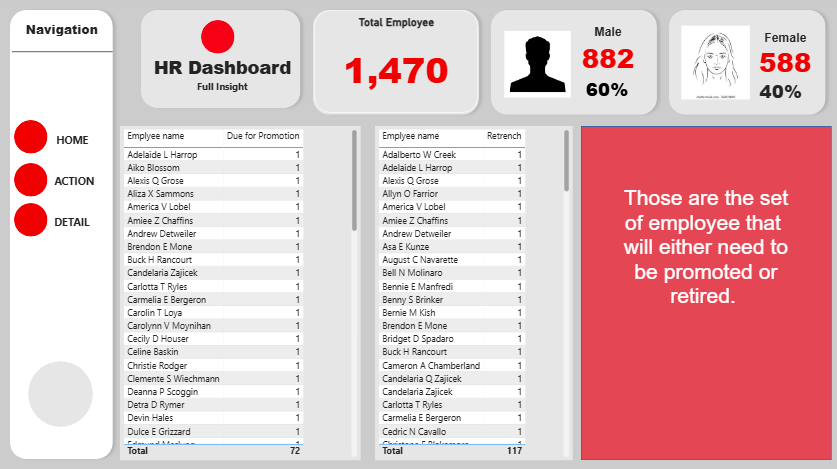

This screenshot's page, from the dashboard's own definition file:
{"tool":"powerbi","page":{"name":"ACTION","canvas":[1280,720],"ordinal":1},"visuals":[{"type":"shape","box":[11.4,11.4,174.3,698.6],"z":0},{"type":"shape","box":[48.6,554.3,98.6,100],"z":1000},{"type":"shape","box":[27.1,188.7,51.4,51.4],"z":2000},{"type":"shape","box":[27.1,253,51.4,51.4],"z":3000},{"type":"shape","box":[27.1,314.4,51.4,51.4],"z":4000},{"type":"textbox","box":[85.7,201.4,77.1,41.4],"z":5000},{"type":"textbox","box":[82.9,264.3,82.9,37.1],"z":6000},{"type":"textbox","box":[82.9,325.7,82.9,40],"z":7000},{"type":"shape","box":[24.3,77.1,152.9,14.3],"z":8000},{"type":"textbox","box":[35,31.7,130,45],"z":9000},{"type":"tableEx","fields":{"Values":["HR employee data.Emplyee name","Table.Due for Promotion"]},"box":[188.3,196.7,365,506.7],"z":10000},{"type":"tableEx","fields":{"Values":["HR employee data.Emplyee name","Table.Retrench"]},"box":[575,196.7,300,506.7],"z":11000},{"type":"shape","box":[886.7,196.7,380,506.7],"z":12000},{"type":"textbox","box":[926.7,283.3,300,300],"z":13000},{"type":"shape","box":[211.4,11.4,260,167.1],"z":14000},{"type":"shape","box":[311.4,35.7,51.4,51.4],"z":15000},{"type":"textbox","box":[203.3,85,280,78.3],"z":16000},{"type":"shape","box":[471.4,11.4,270,177.1],"z":17000},{"type":"shape","box":[741.4,11.4,270,177.1],"z":18000},{"type":"shape","box":[1011.4,11.4,255.7,177.1],"z":19000},{"type":"card","title":"Total Employee","fields":{"Values":["Table.Total Employee"]},"box":[482.9,21.4,248.6,155.7],"z":20000},{"type":"card","title":"Male","fields":{"Values":["Table.Male Employee"]},"box":[876.7,43.3,103.3,76.7],"z":21000},{"type":"card","fields":{"Values":["Table.Male Percentage"]},"box":[875.7,90,104.3,104.3],"z":22000},{"type":"card","title":"Female","fields":{"Values":["Table.Female Employee"]},"box":[1140,53.3,113.3,71.7],"z":23000},{"type":"card","fields":{"Values":["Table.Female Percentage"]},"box":[1142.9,108.6,94.3,70],"z":24000},{"type":"image","box":[1034.3,38.6,114.3,125.7],"z":25000},{"type":"image","box":[765.7,38.6,111.4,131.4],"z":26000}]}

Visuals, with their boxes in screenshot pixels (x1, y1, x2, y2), scaled from the page's 1280x720 canvas onto the 837x469 screenshot:
shape: pyautogui.locateOnScreen(7, 7, 121, 462)
shape: pyautogui.locateOnScreen(32, 361, 96, 426)
shape: pyautogui.locateOnScreen(18, 123, 51, 156)
shape: pyautogui.locateOnScreen(18, 165, 51, 198)
shape: pyautogui.locateOnScreen(18, 205, 51, 238)
textbox: pyautogui.locateOnScreen(56, 131, 106, 158)
textbox: pyautogui.locateOnScreen(54, 172, 108, 196)
textbox: pyautogui.locateOnScreen(54, 212, 108, 238)
shape: pyautogui.locateOnScreen(16, 50, 116, 60)
textbox: pyautogui.locateOnScreen(23, 21, 108, 50)
tableEx - HR employee data.Emplyee name x Table.Due for Promotion: pyautogui.locateOnScreen(123, 128, 362, 458)
tableEx - HR employee data.Emplyee name x Table.Retrench: pyautogui.locateOnScreen(376, 128, 572, 458)
shape: pyautogui.locateOnScreen(580, 128, 828, 458)
textbox: pyautogui.locateOnScreen(606, 185, 802, 380)
shape: pyautogui.locateOnScreen(138, 7, 308, 116)
shape: pyautogui.locateOnScreen(204, 23, 237, 57)
textbox: pyautogui.locateOnScreen(133, 55, 316, 106)
shape: pyautogui.locateOnScreen(308, 7, 485, 123)
shape: pyautogui.locateOnScreen(485, 7, 661, 123)
shape: pyautogui.locateOnScreen(661, 7, 829, 123)
"Total Employee" card: pyautogui.locateOnScreen(316, 14, 478, 115)
"Male" card: pyautogui.locateOnScreen(573, 28, 641, 78)
card - Table.Male Percentage: pyautogui.locateOnScreen(573, 59, 641, 127)
"Female" card: pyautogui.locateOnScreen(745, 35, 820, 81)
card - Table.Female Percentage: pyautogui.locateOnScreen(747, 71, 809, 116)
image: pyautogui.locateOnScreen(676, 25, 751, 107)
image: pyautogui.locateOnScreen(501, 25, 574, 111)
